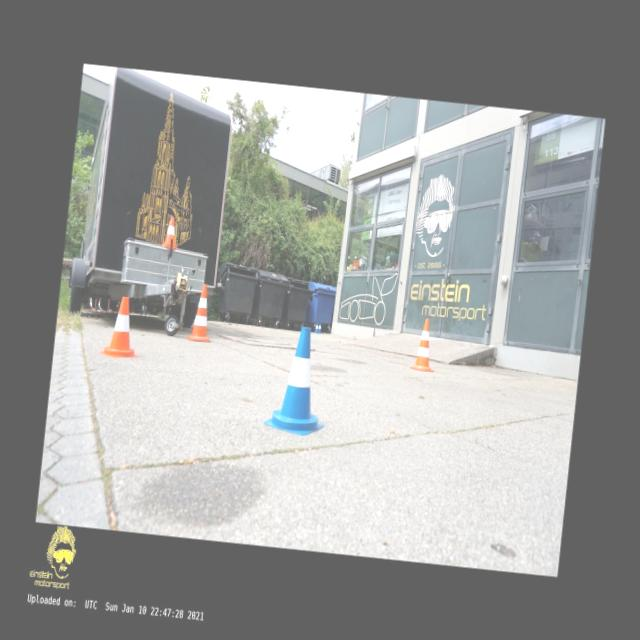blue_cone: (262, 322, 333, 438), (316, 322, 322, 333), (313, 322, 318, 332)
large_orange_cone: (186, 284, 216, 342), (409, 317, 438, 371)
orange_cone: (100, 294, 144, 359), (161, 216, 180, 248)
